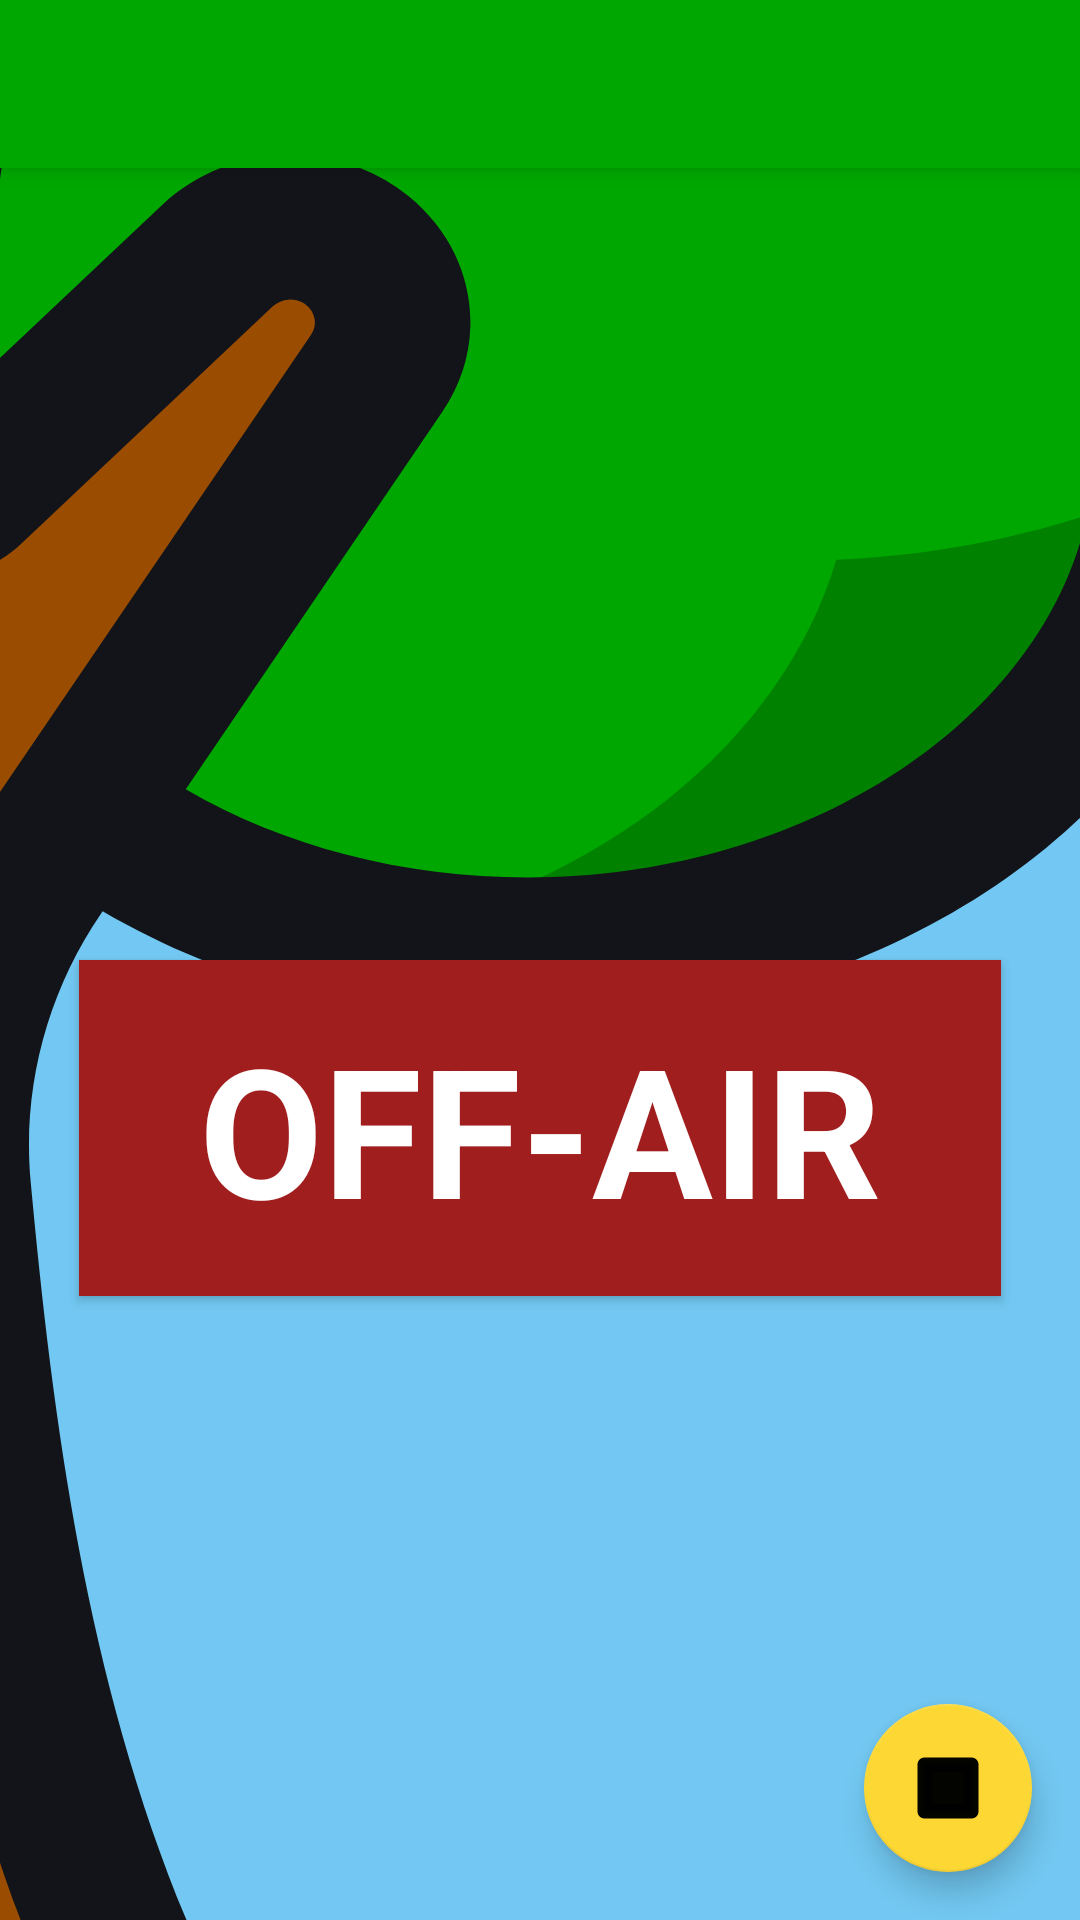

Named icons in this screenshot (1080×1920) and their bounding boxes, (x1, y1, x2, y2):
Stop recording: (864, 1704, 1032, 1872)
